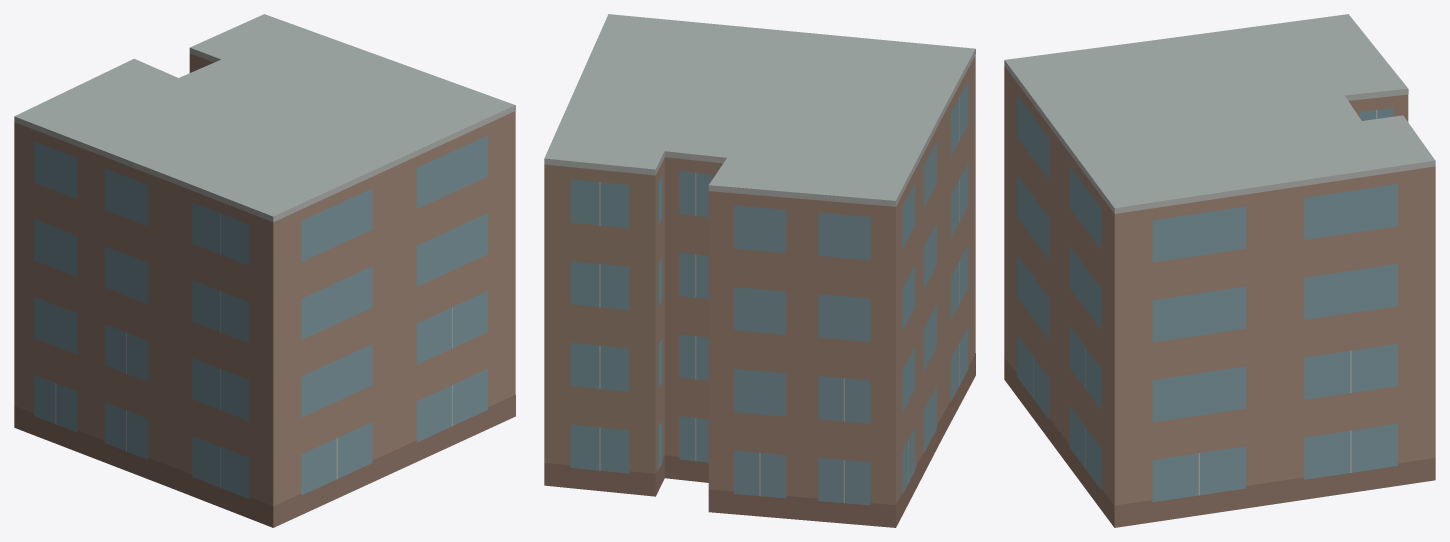
File: survey-upis-32612694.glb
3 renders of one model, left to right at view 1: azimuth 30°, elevation 25°; view 2: azimuth 150°, elevation 25°; view 3: azimuth 270°, elevation 25°, orthographic. The views are drawn at different scales.
Visible parts, largest first — view 1: survey-upis-32612694.tmp; view 2: survey-upis-32612694.tmp; view 3: survey-upis-32612694.tmp.
Boxes of the visible parts, x1,y1,x2,y2 form: survey-upis-32612694.tmp: (14, 14, 515, 527); survey-upis-32612694.tmp: (544, 14, 975, 527); survey-upis-32612694.tmp: (1004, 14, 1435, 527).
Size of the model in its own units: 17.54 by 13.45 by 16.45.
